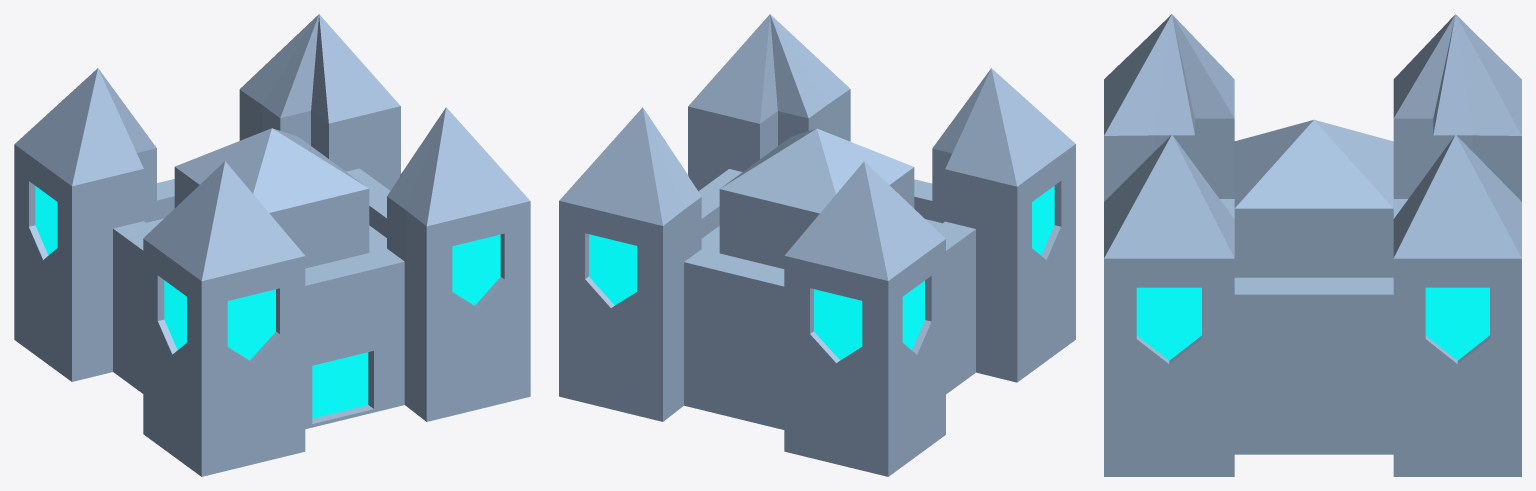
The model's file is Gilded_Castle.glb.
3 views of the same model, side by side, from view 1: azimuth 30°, elevation 25°; view 2: azimuth 150°, elevation 25°; view 3: azimuth 270°, elevation 25° (orthographic). The views are drawn at different scales.
Visible parts, largest first — view 1: Dark Castle; view 2: Dark Castle; view 3: Dark Castle.
Boxes of the visible parts, box(x1,y1,x2,y2) form: Dark Castle: box(14, 14, 530, 476); Dark Castle: box(559, 14, 1075, 476); Dark Castle: box(1104, 14, 1521, 476).
Size of the model in its own units: 1.51 by 1.23 by 1.48.
